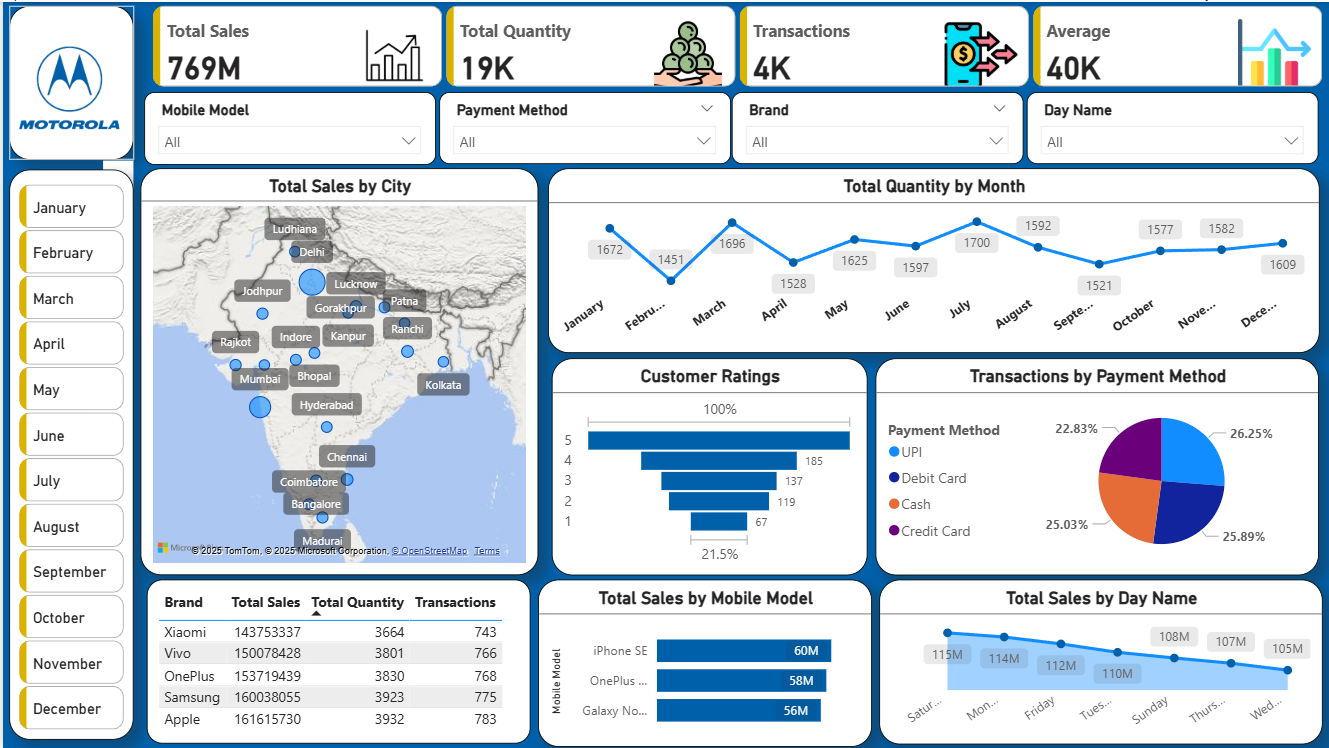

The page's visual inventory and layout, read from the dashboard file:
{"tool":"powerbi","page":{"name":"Page 1","canvas":[1280,720],"ordinal":0},"visuals":[{"type":"shape","box":[6.2,3.8,120,148.8],"z":0},{"type":"image","box":[11.2,21.2,106.2,122.5],"z":1000},{"type":"shape","box":[6.2,161.2,120,550],"z":2000},{"type":"advancedSlicerVisual","fields":{"Values":["Sales_Data.Date.Variation.Date Hierarchy.Month"]},"box":[11.2,171.2,111.2,538.8],"z":3000},{"type":"cardVisual","fields":{"Data":["Sales_Data.Total Sales","Sales_Data.Total Quantity","Sales_Data.Transactions","Sales_Data.Average"]},"box":[139.9,3.6,1140.1,83.2],"z":4000},{"type":"map","fields":{"Category":["Sales_Data.City"],"Size":["Sales_Data.Total Sales"]},"box":[132.9,160.8,384.1,393.1],"z":5000},{"type":"lineChart","fields":{"Y":["Sales_Data.Total Quantity"],"Category":["Sales_Data.Date.Variation.Date Hierarchy.Month","Sales_Data.Date.Variation.Date Hierarchy.Day"]},"box":[525.9,160.8,744.8,178.7],"z":6000},{"type":"clusteredBarChart","fields":{"Category":["Sales_Data.Mobile Model"],"Y":["Sales_Data.Total Sales"]},"box":[516.2,557.5,322.5,161.2],"z":7000},{"type":"pieChart","fields":{"Category":["Sales_Data.Payment Method"],"Y":["Sales_Data.Transactions"]},"box":[842.5,344.4,428.1,209.9],"z":8000},{"type":"funnel","title":"Customer Ratings","fields":{"Category":["Sales_Data.Customer Ratings"],"Y":["CountNonNull(Sales_Data.Customer Ratings)"]},"box":[529.7,344.4,304.6,209.9],"z":9000},{"type":"areaChart","fields":{"Category":["Sales_Data.Day Name"],"Y":["Sales_Data.Total Sales"]},"box":[845.3,557.1,428.1,159.2],"z":10000},{"type":"tableEx","fields":{"Values":["Sales_Data.Brand","Sales_Data.Total Sales","Sales_Data.Total Quantity","Sales_Data.Transactions"]},"box":[138.8,557.5,370,158.8],"z":11000},{"type":"slicer","fields":{"Values":["Sales_Data.Mobile Model"]},"box":[136.2,87.1,281.4,70.3],"z":12000},{"type":"slicer","fields":{"Values":["Sales_Data.Payment Method"]},"box":[421,87.1,281.4,69.2],"z":13000},{"type":"slicer","fields":{"Values":["Sales_Data.Brand"]},"box":[703.5,87.1,281.4,69.2],"z":14000},{"type":"slicer","fields":{"Values":["Sales_Data.Day Name"]},"box":[988.2,87.1,281.4,69.2],"z":15000}]}

Visuals, with their boxes in screenshot pixels (x1, y1, x2, y2), scaled from the page's 1280x720 canvas onto the 1329x748 screenshot:
shape: [6,4,131,159]
image: [12,22,122,149]
shape: [6,167,131,739]
advancedSlicerVisual - Sales_Data.Date.Variation.Date Hierarchy.Month: [12,178,127,738]
cardVisual - Sales_Data.Total Sales x Sales_Data.Total Quantity: [145,4,1328,90]
map - Sales_Data.City x Sales_Data.Total Sales: [138,167,537,575]
lineChart - Sales_Data.Total Quantity x Sales_Data.Date.Variation.Date Hierarchy.Month: [546,167,1319,353]
clusteredBarChart - Sales_Data.Mobile Model x Sales_Data.Total Sales: [536,579,871,747]
pieChart - Sales_Data.Payment Method x Sales_Data.Transactions: [875,358,1319,576]
"Customer Ratings" funnel: [550,358,866,576]
areaChart - Sales_Data.Day Name x Sales_Data.Total Sales: [878,579,1322,744]
tableEx - Sales_Data.Brand x Sales_Data.Total Sales: [144,579,528,744]
slicer - Sales_Data.Mobile Model: [141,90,434,164]
slicer - Sales_Data.Payment Method: [437,90,729,162]
slicer - Sales_Data.Brand: [730,90,1023,162]
slicer - Sales_Data.Day Name: [1026,90,1318,162]
